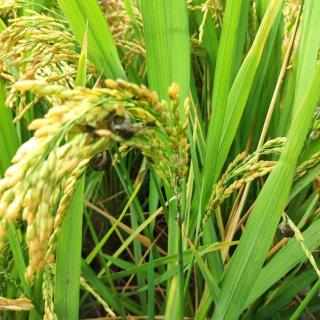Gosong-Palsu: (110, 113, 140, 139), (89, 150, 113, 172), (277, 220, 296, 238)
